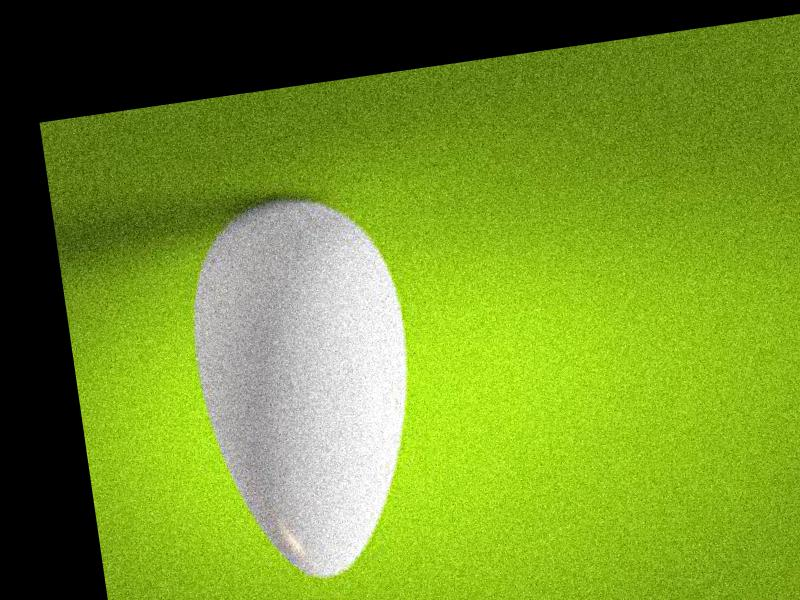Eggs: (176, 188, 437, 596)
